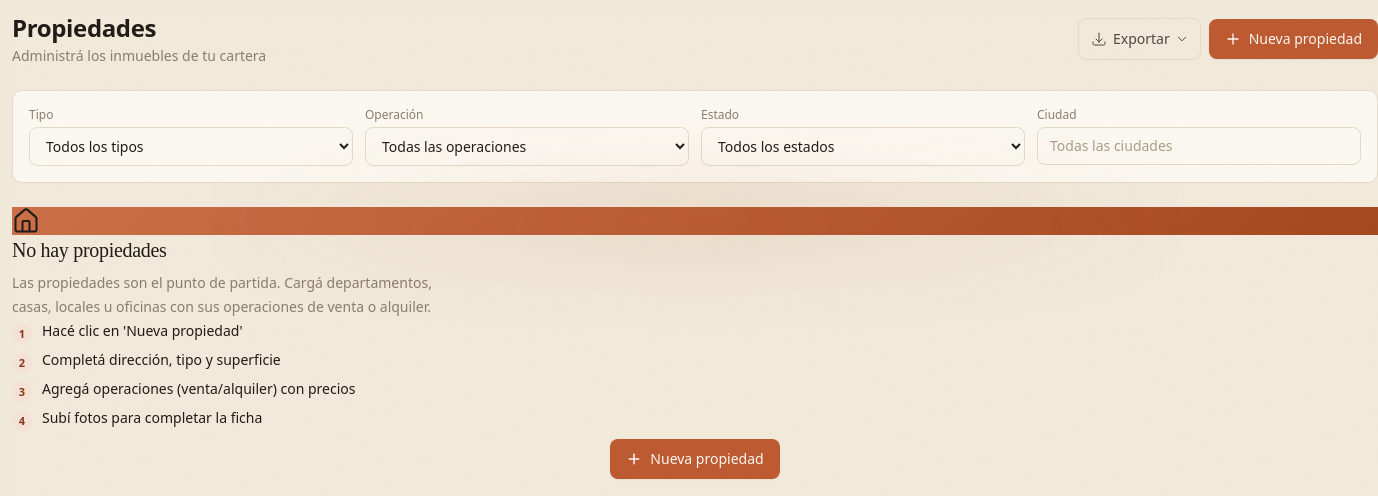
Test: PropertyList › sin resultados con filtros muestra el vacío filtrado y permite limpiar
Expected: the text "No hay propiedades" is shown, top-left (12, 239), bottom-right (167, 261)
Select "Casa" in the dropdown labelled "Tipo" at (191, 146), box top-left (29, 127), bottom-right (353, 166)
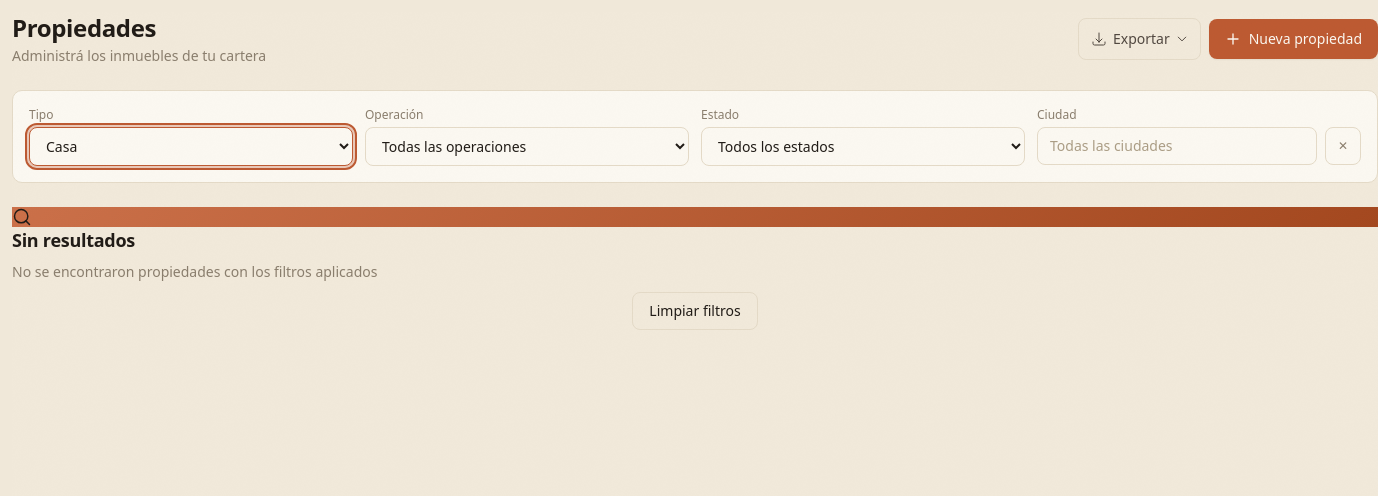
Expected: the text "Sin resultados" is shown, top-left (12, 228), bottom-right (135, 252)
Expected: the text "No se encontraron propiedades con los filtros aplicados" is shown, top-left (12, 262), bottom-right (378, 281)
Click the button "Limpiar filtros" at (695, 311), box top-left (632, 292), bottom-right (758, 330)
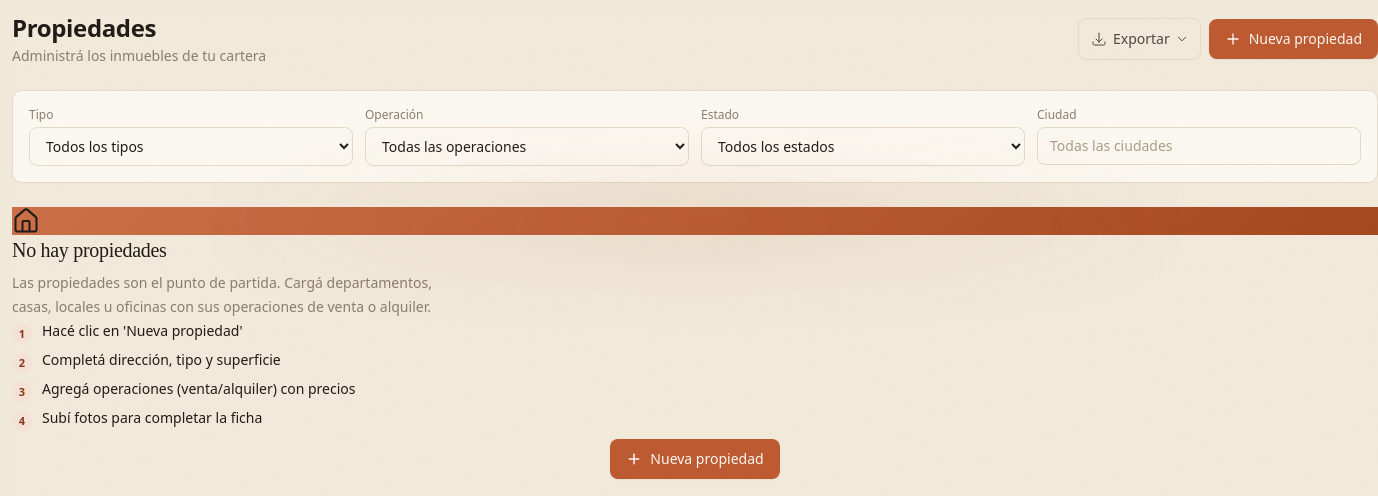
Expected: the text "No hay propiedades" is shown, top-left (12, 239), bottom-right (167, 261)
